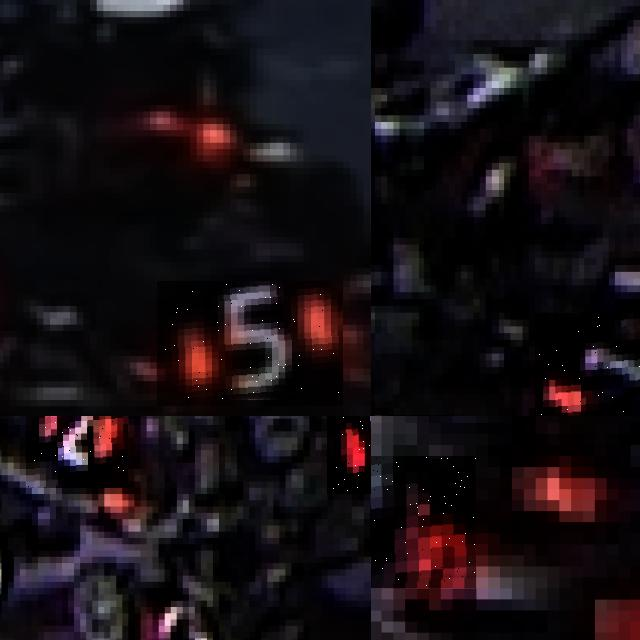R1: (534, 312, 640, 416)
R2: (25, 416, 128, 487), (327, 416, 371, 494)
R3: (371, 455, 476, 588)
R5: (157, 281, 343, 406)
